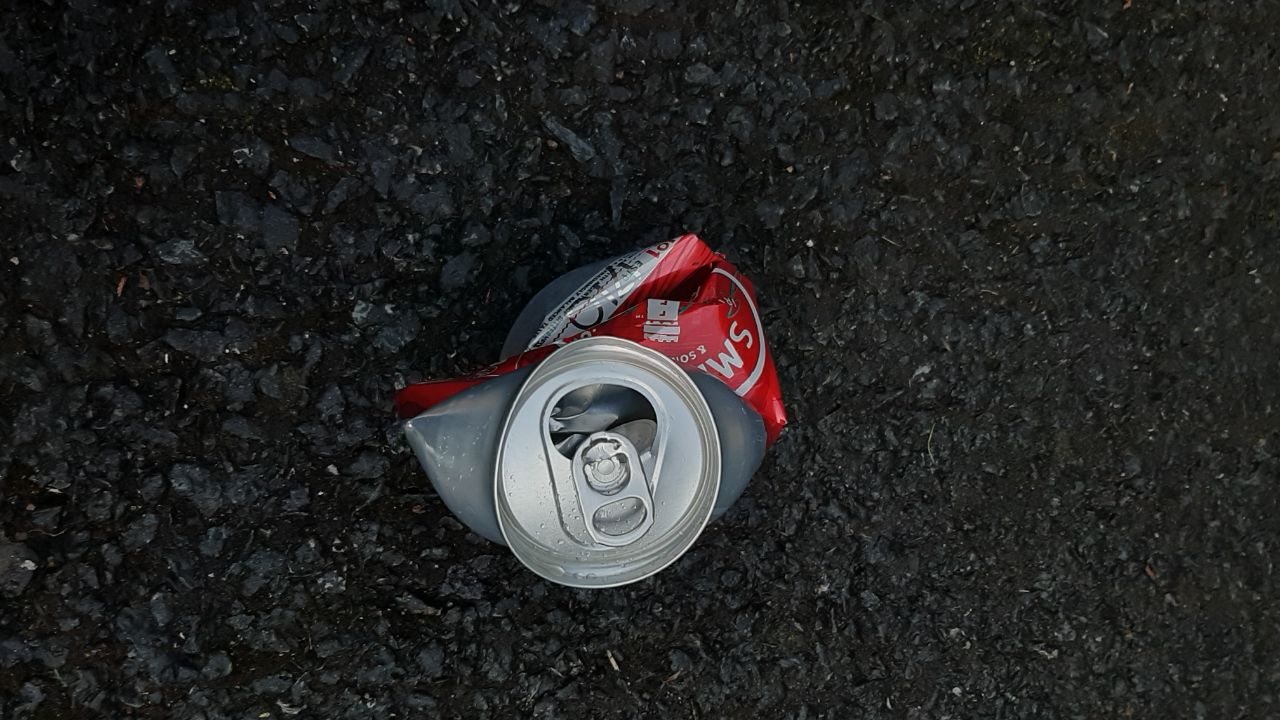Can: (391, 232, 790, 589)
